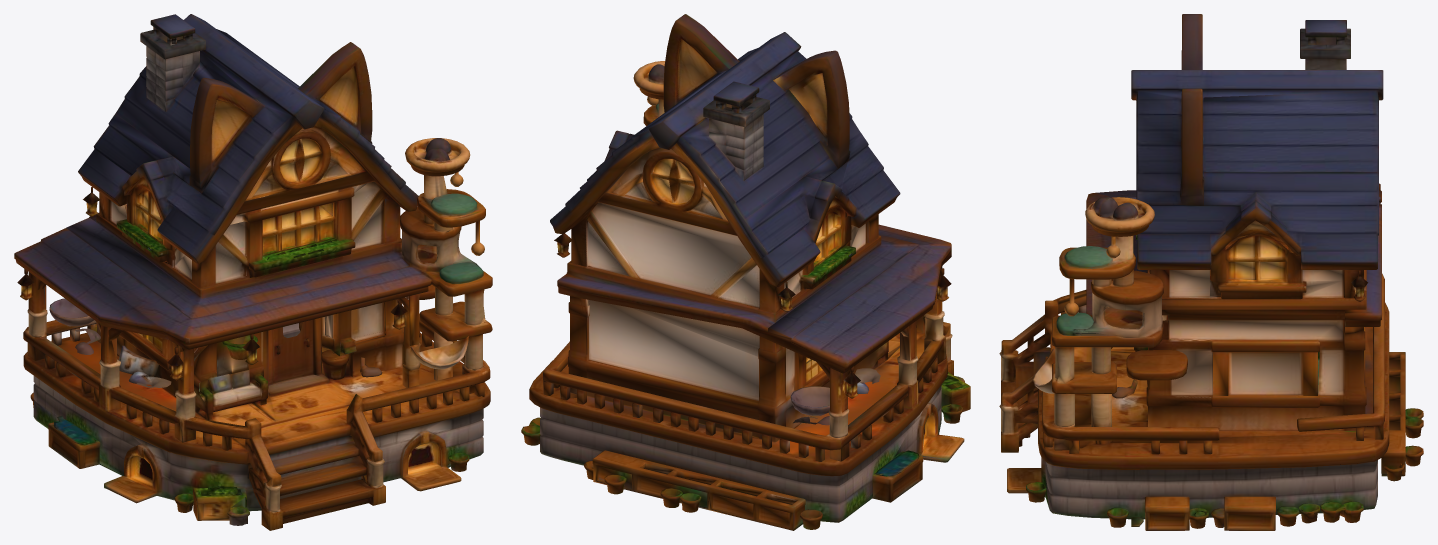
File: sanctuary.glb
The picture shows the model from 3 angles, left to right: view 1: azimuth 30°, elevation 25°; view 2: azimuth 150°, elevation 25°; view 3: azimuth 270°, elevation 25°; orthographic projection. The views are drawn at different scales.
Parts seen in each view (by area): view 1: material; view 2: material; view 3: material.
Boxes of the visible parts, x1,y1,x2,y2 form: material: [14, 14, 492, 530]; material: [521, 14, 970, 530]; material: [999, 14, 1423, 530].
Bounding box in the file's own units: 1.83 × 1.9 × 1.84.
Materials: 1 (1 with a texture image).
